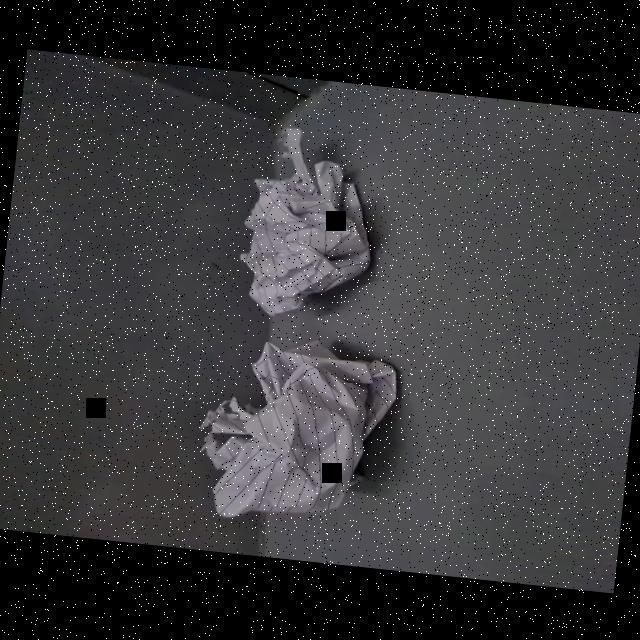scrap_paper: (176, 318, 416, 538), (209, 118, 391, 314)
